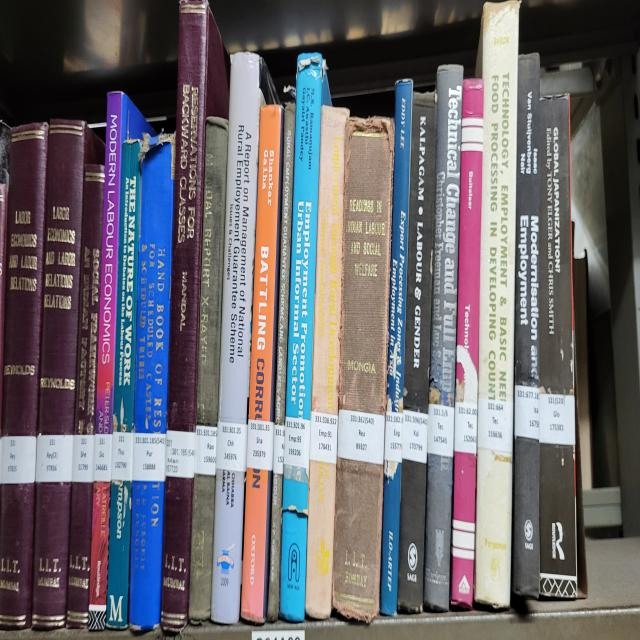Book: (161, 0, 229, 630), (211, 51, 278, 622), (31, 119, 104, 628), (89, 92, 149, 628), (332, 119, 394, 622), (280, 54, 330, 622), (474, 0, 520, 609), (0, 124, 48, 628), (305, 106, 349, 620), (130, 135, 175, 630), (241, 106, 282, 622), (424, 65, 462, 611), (539, 95, 579, 598), (189, 116, 228, 622), (398, 92, 436, 611), (451, 78, 484, 609), (380, 78, 412, 614), (106, 138, 141, 628), (68, 165, 105, 628), (512, 54, 540, 595), (268, 106, 295, 622)
Label: (338, 409, 385, 465), (478, 398, 514, 452), (539, 392, 575, 446), (36, 433, 74, 482), (0, 436, 36, 484), (132, 433, 166, 482), (216, 422, 248, 471), (165, 430, 196, 479), (310, 411, 338, 465), (428, 403, 455, 457), (246, 419, 274, 471), (284, 417, 310, 471), (402, 409, 428, 463), (514, 384, 539, 438), (454, 400, 478, 455), (111, 430, 134, 482), (195, 425, 218, 476), (72, 436, 95, 482), (384, 411, 402, 463), (94, 433, 112, 482), (272, 425, 285, 473)
